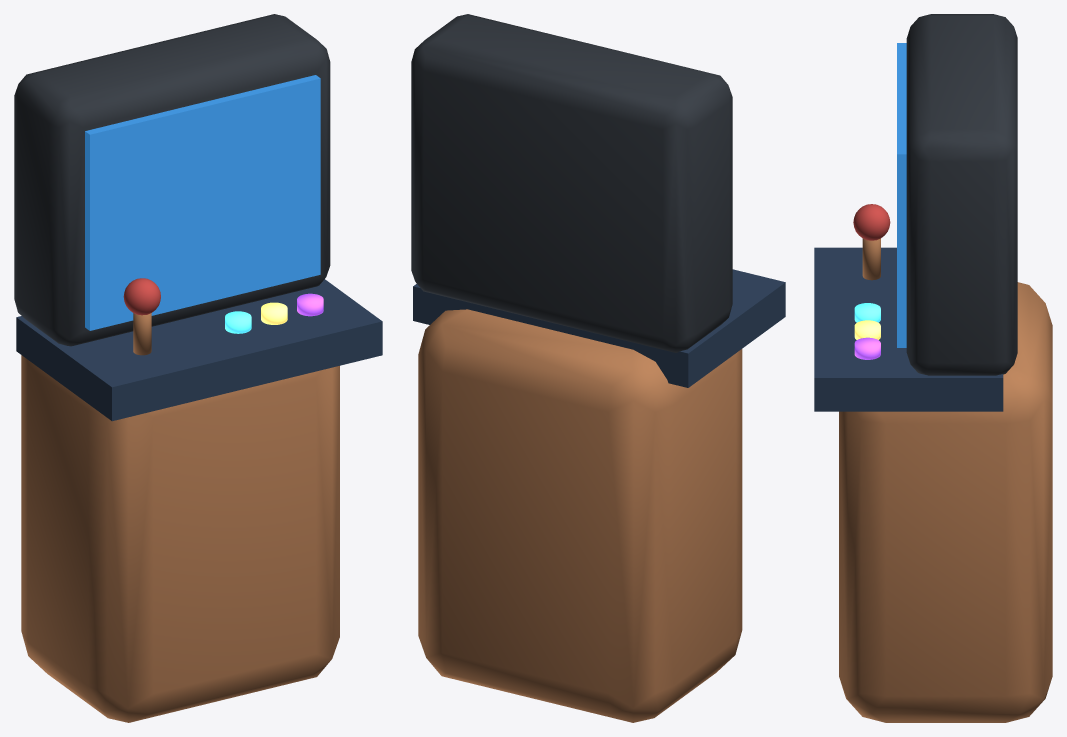
Rendered from arcade_console.glb.
3 renders of one model, left to right at view 1: azimuth 30°, elevation 25°; view 2: azimuth 150°, elevation 25°; view 3: azimuth 270°, elevation 25°, orthographic. The views are drawn at different scales.
Visible parts, largest first — view 1: root_copper, root_screen, root_charcoal, root_navy, root_red; view 2: root_copper, root_charcoal, root_navy; view 3: root_copper, root_charcoal, root_navy, root_screen, root_red, root_purple, root_warm, root_blue.
Part boxes in pixels (<box>): root_copper: <box>21,313,339,722</box>; root_screen: <box>85,75,320,330</box>; root_charcoal: <box>14,14,330,346</box>; root_navy: <box>16,279,382,421</box>; root_red: <box>123,278,160,315</box>; root_copper: <box>418,309,742,722</box>; root_charcoal: <box>411,14,732,352</box>; root_navy: <box>413,269,785,387</box>; root_copper: <box>839,238,1052,722</box>; root_charcoal: <box>906,14,1017,375</box>; root_navy: <box>814,247,1003,411</box>; root_screen: <box>897,43,906,347</box>; root_red: <box>853,204,890,240</box>; root_purple: <box>854,337,880,359</box>; root_warm: <box>854,320,880,339</box>; root_blue: <box>854,303,880,322</box>.
Size of the model in its own units: 0.77 by 1.63 by 0.58.
